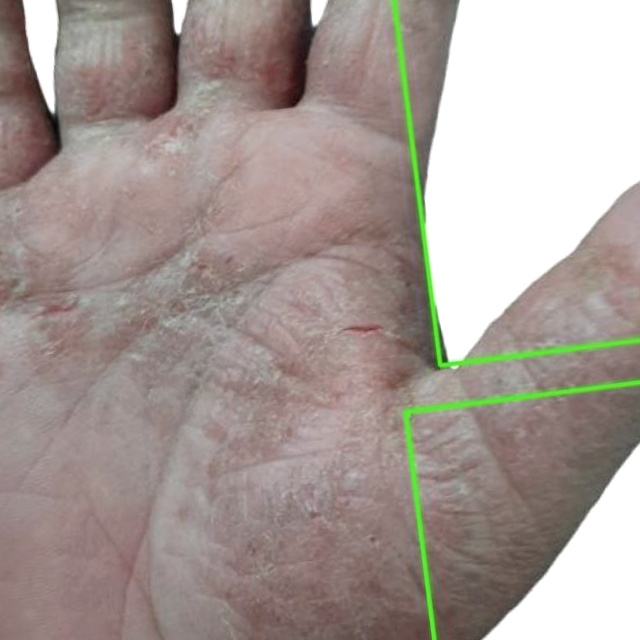Contact Dermatitis: (394, 0, 639, 365), (405, 382, 639, 639)
